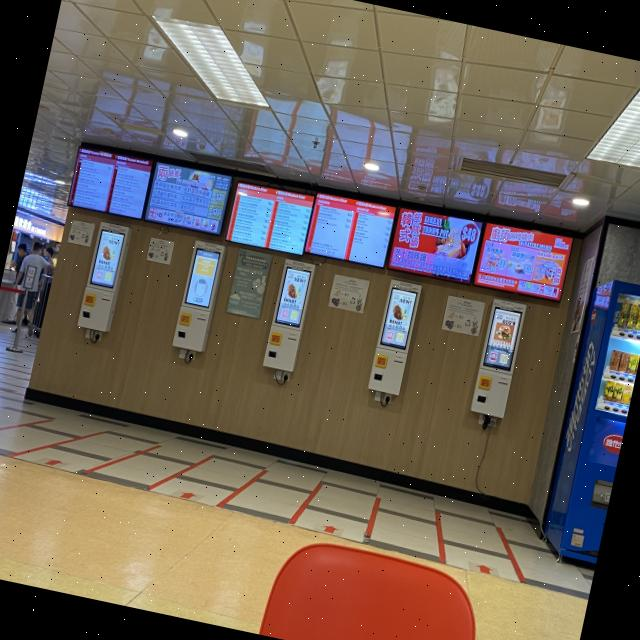orderKiosk: (469, 297, 527, 419), (366, 276, 421, 396), (171, 241, 227, 354), (77, 218, 131, 334), (262, 256, 315, 373)
